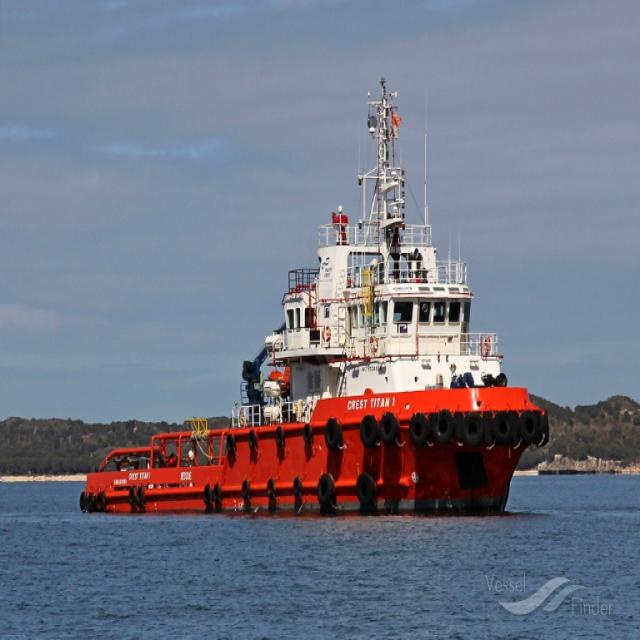OCR: (342, 391, 401, 419)
